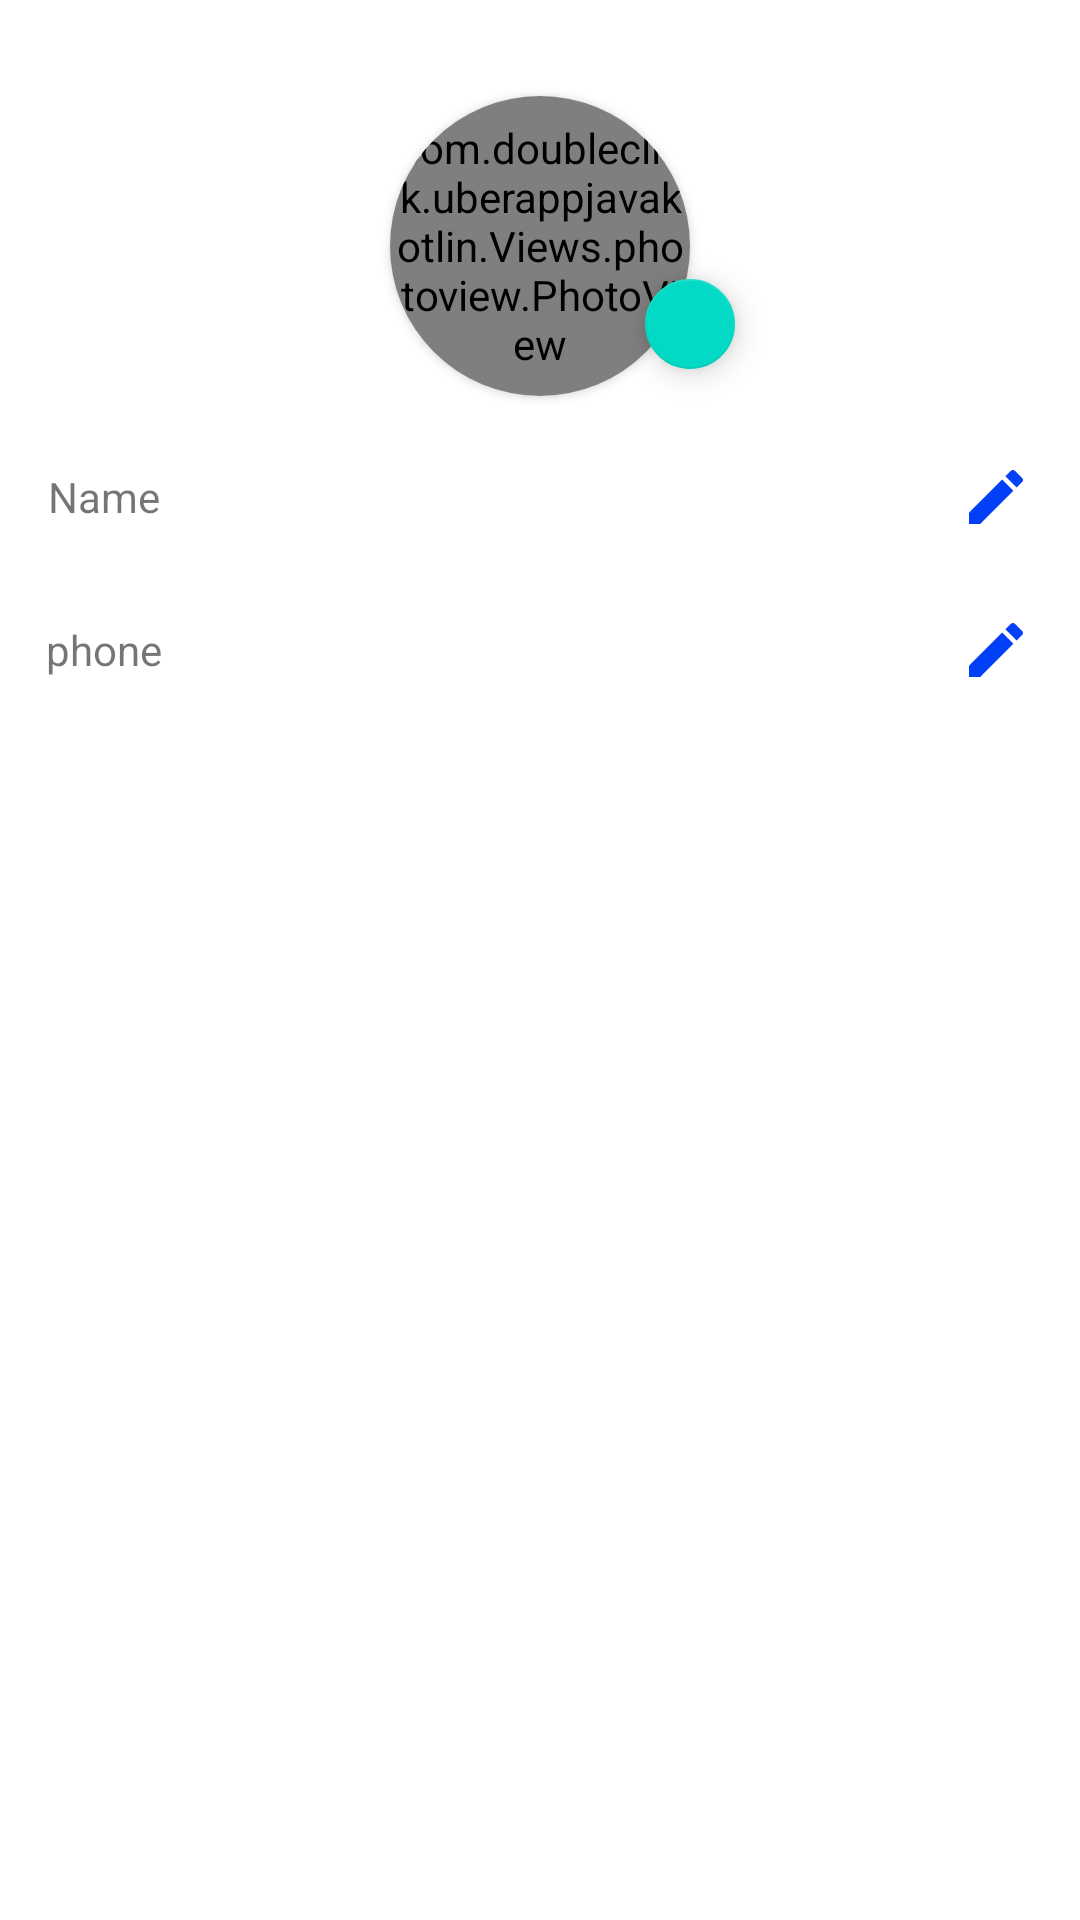

Screen size 1080 × 1920. Icon name, then its center in pixels as point (x, y):
edit: point (996, 497), point (996, 650)
